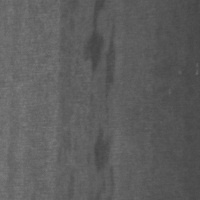inclusion: (83, 0, 118, 123), (91, 109, 121, 199)
